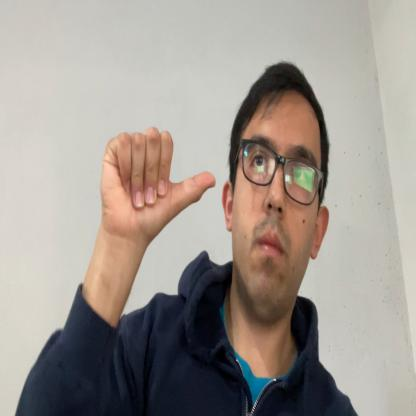A: (101, 125, 216, 247)
